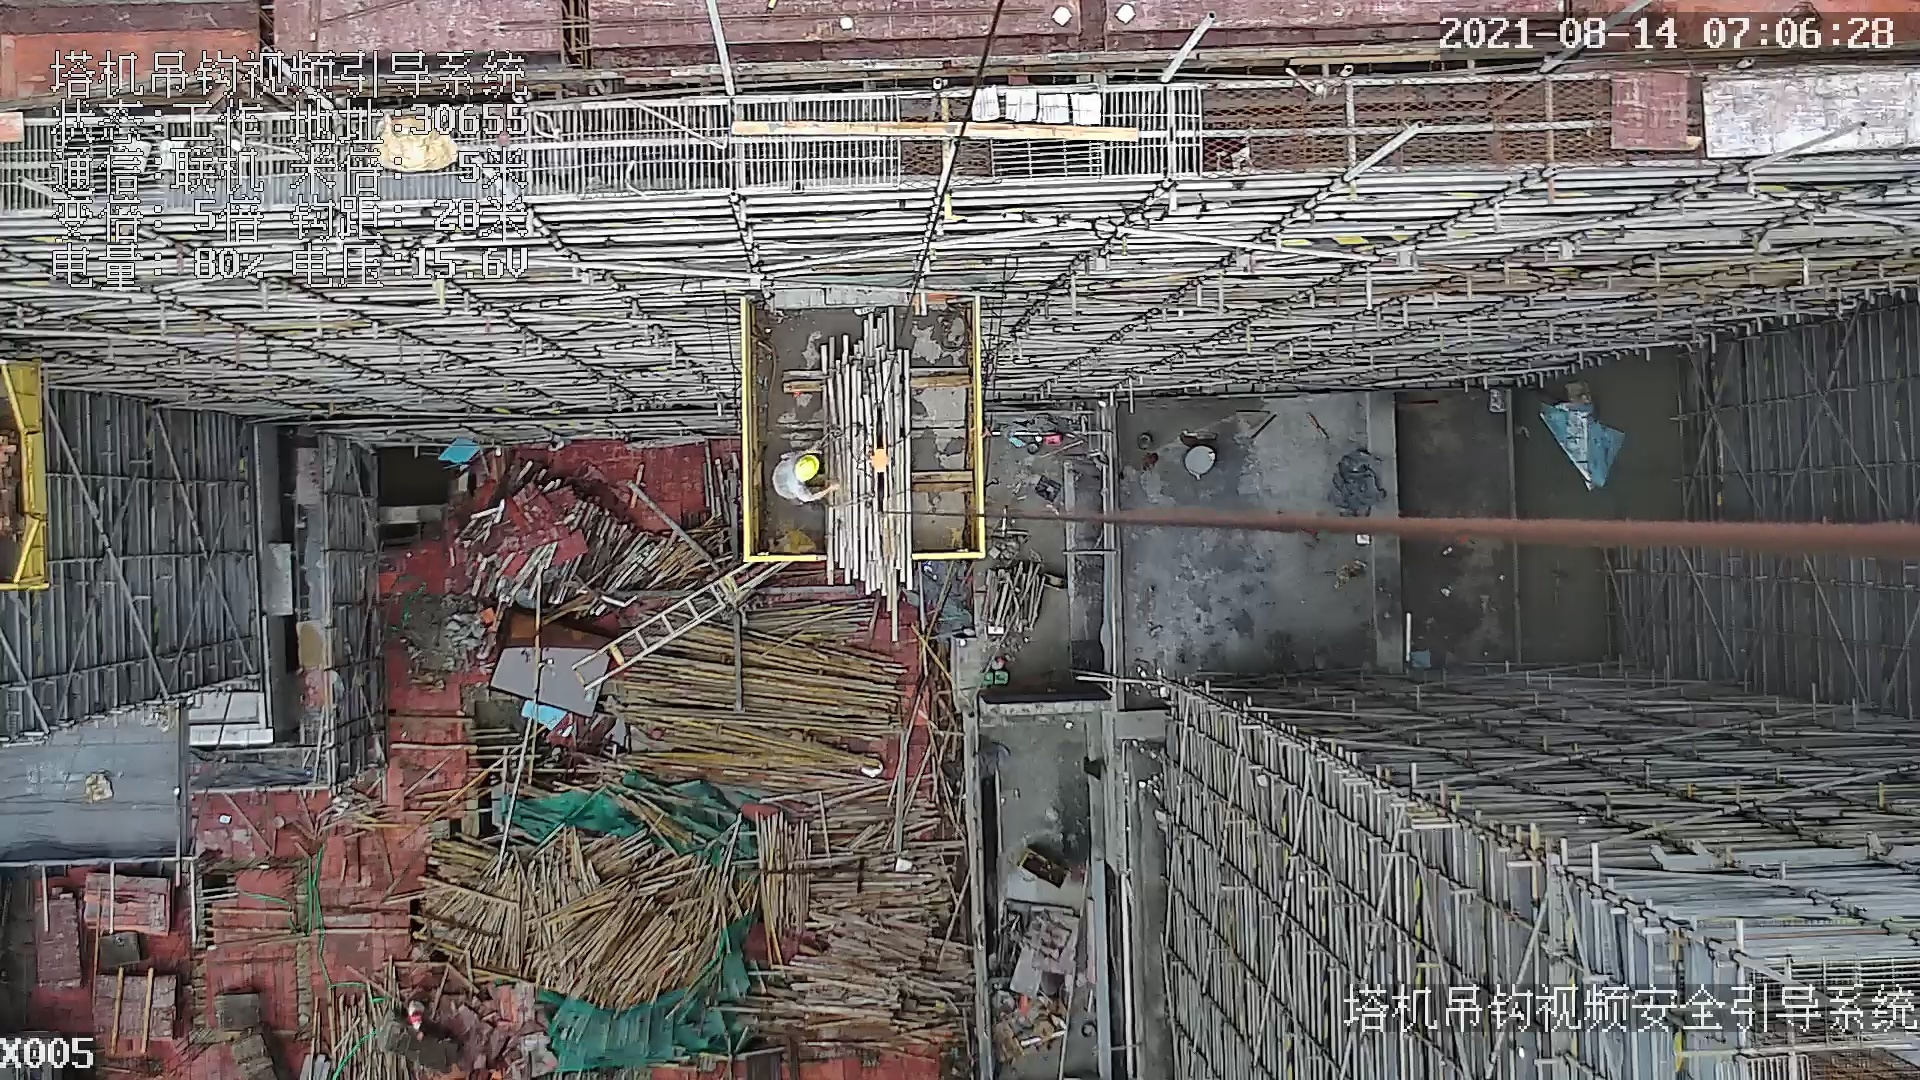helmet: (793, 454, 819, 483)
hook: (855, 396, 894, 517)
person: (774, 449, 841, 509)
